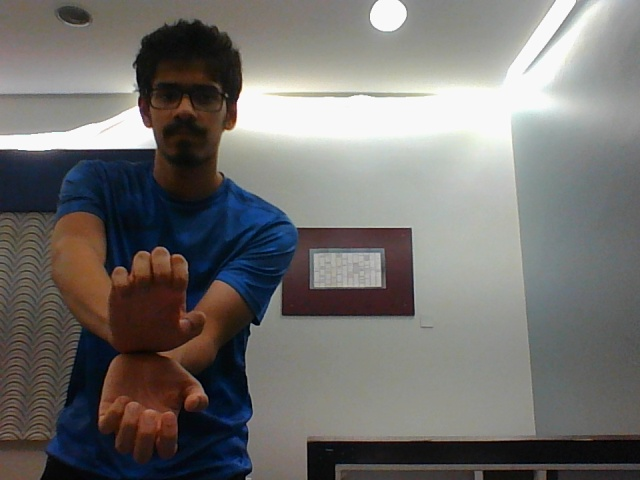blast: (86, 250, 230, 460)
